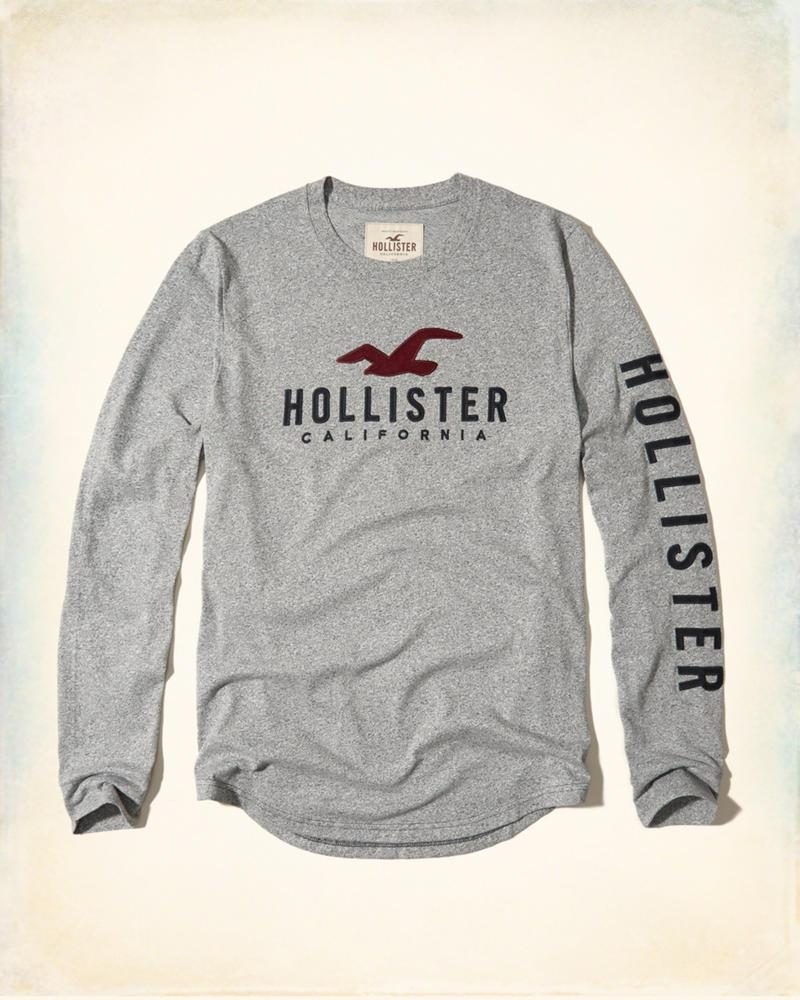teeshirt: (24, 150, 755, 860)
